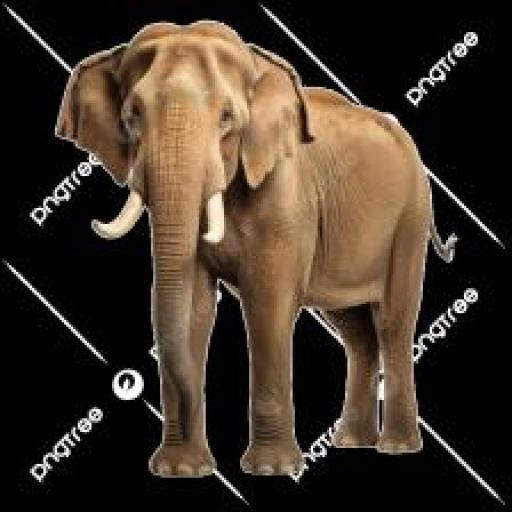Elephant: (56, 22, 456, 475)
